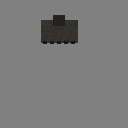armoured_vehicle: (41, 20, 78, 43)
